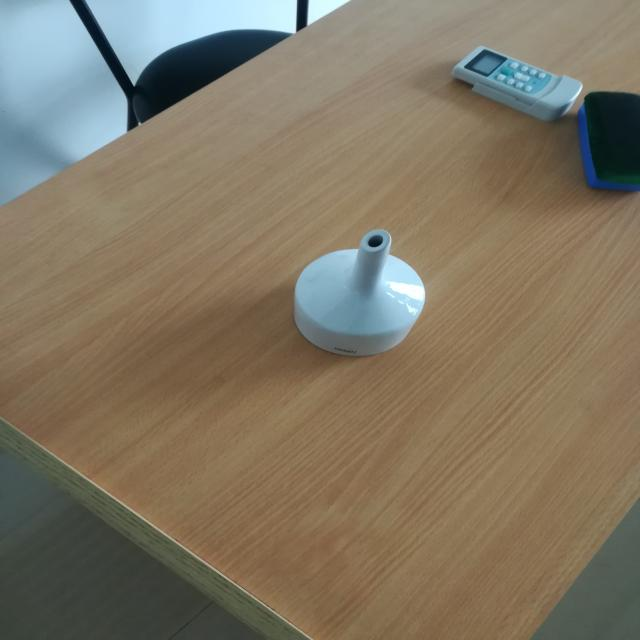Buchner_Funnel: (270, 196, 458, 386)
